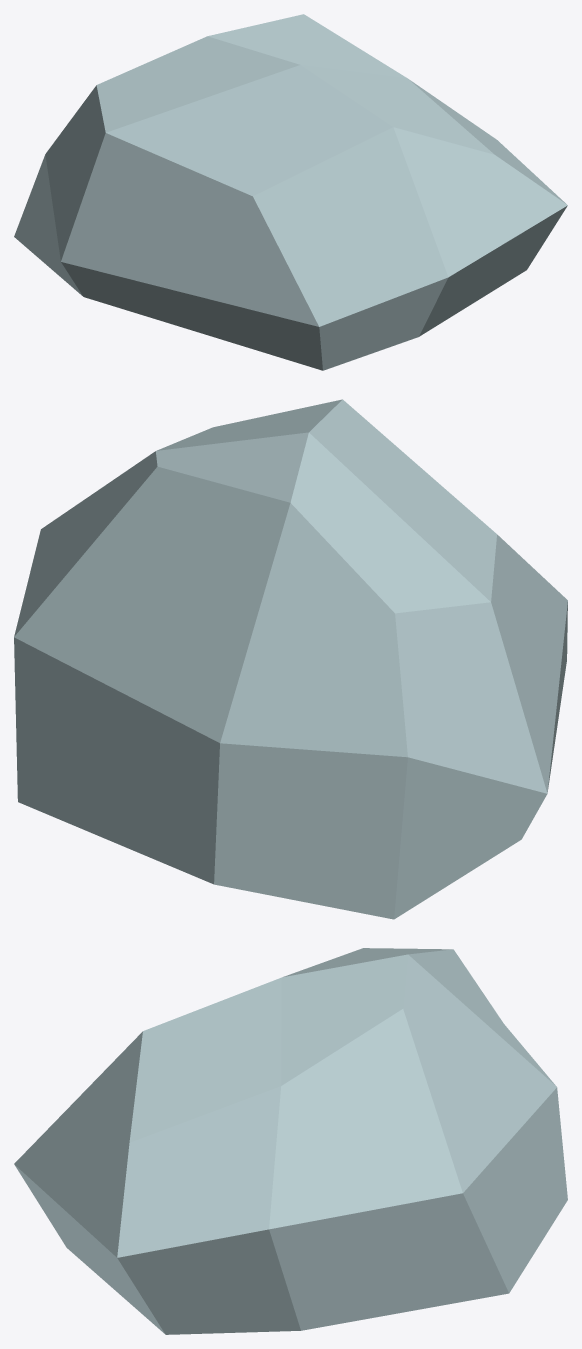
The model's file is Stone_3_Big_Dark.fbx.
3 views of the same model, one above another, from view 1: azimuth 30°, elevation 25°; view 2: azimuth 150°, elevation 25°; view 3: azimuth 270°, elevation 25° (orthographic). The views are drawn at different scales.
Parts seen in each view (by area): view 1: Stone_3_Big_Dark; view 2: Stone_3_Big_Dark; view 3: Stone_3_Big_Dark.
Part boxes in pixels (<box>): Stone_3_Big_Dark: <box>14,14,567,370</box>; Stone_3_Big_Dark: <box>14,399,567,919</box>; Stone_3_Big_Dark: <box>14,948,567,1334</box>.
Size of the model in its own units: 0.3877 by 0.197 by 0.3889.
